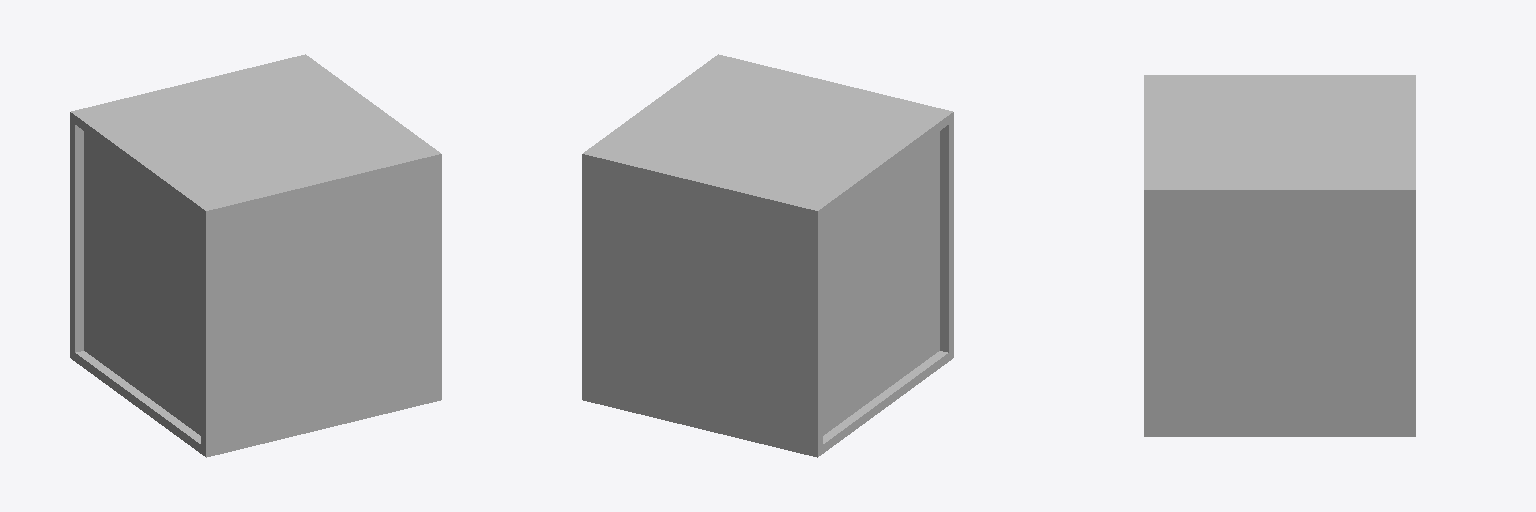
The model's file is display1x1.obj.
3 views of the same model, side by side, from view 1: azimuth 30°, elevation 25°; view 2: azimuth 150°, elevation 25°; view 3: azimuth 270°, elevation 25° (orthographic).
Visible parts, largest first — view 1: Cube_Cube.004; view 2: Cube_Cube.004; view 3: Cube_Cube.004.
Boxes of the visible parts, <box> form: Cube_Cube.004: <box>70,54,441,457</box>; Cube_Cube.004: <box>582,54,953,457</box>; Cube_Cube.004: <box>1144,75,1415,436</box>.
Size of the model in its own units: 1 by 1 by 1.